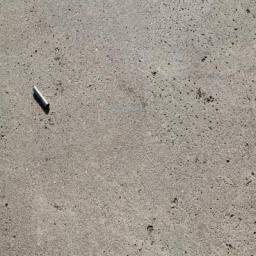FOD: (31, 83, 54, 117)
